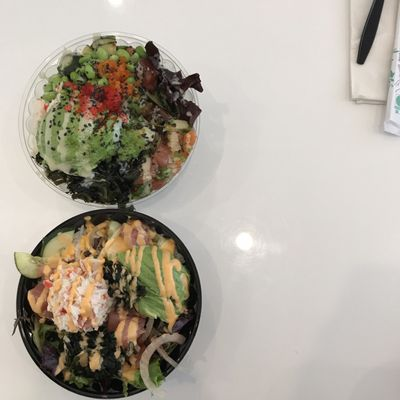curry: (37, 109, 122, 179)
sushi: (17, 208, 202, 397), (7, 36, 203, 213)
